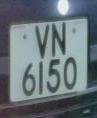0: (62, 54, 80, 95)
1: (36, 59, 48, 99)
5: (45, 58, 63, 96)
6: (20, 61, 39, 101)
N: (50, 19, 69, 59)
V: (32, 19, 53, 62)
